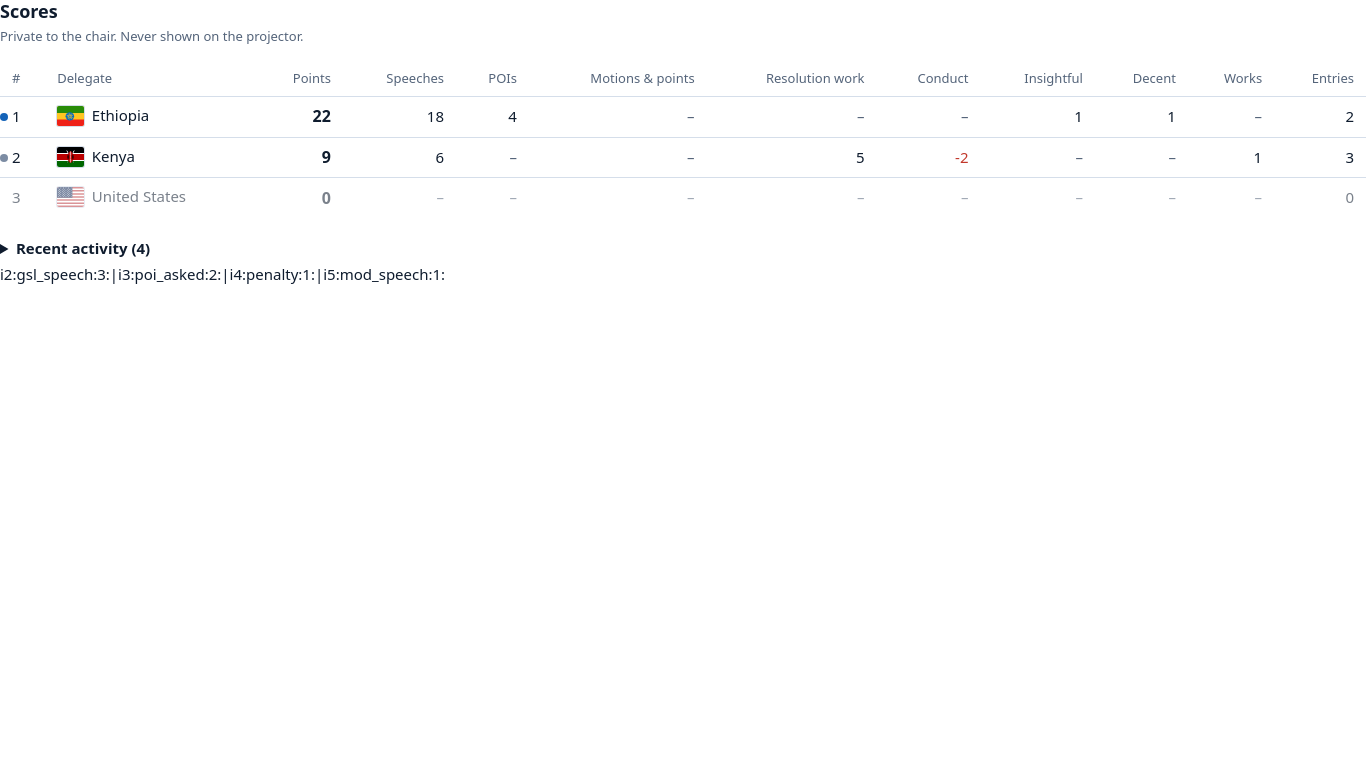
Scenario: LeaderboardPanel › opens the log modal and edits quality
Click the button with aria-label "Show log for Ethiopia" at (103, 117), box [57,105,149,129]
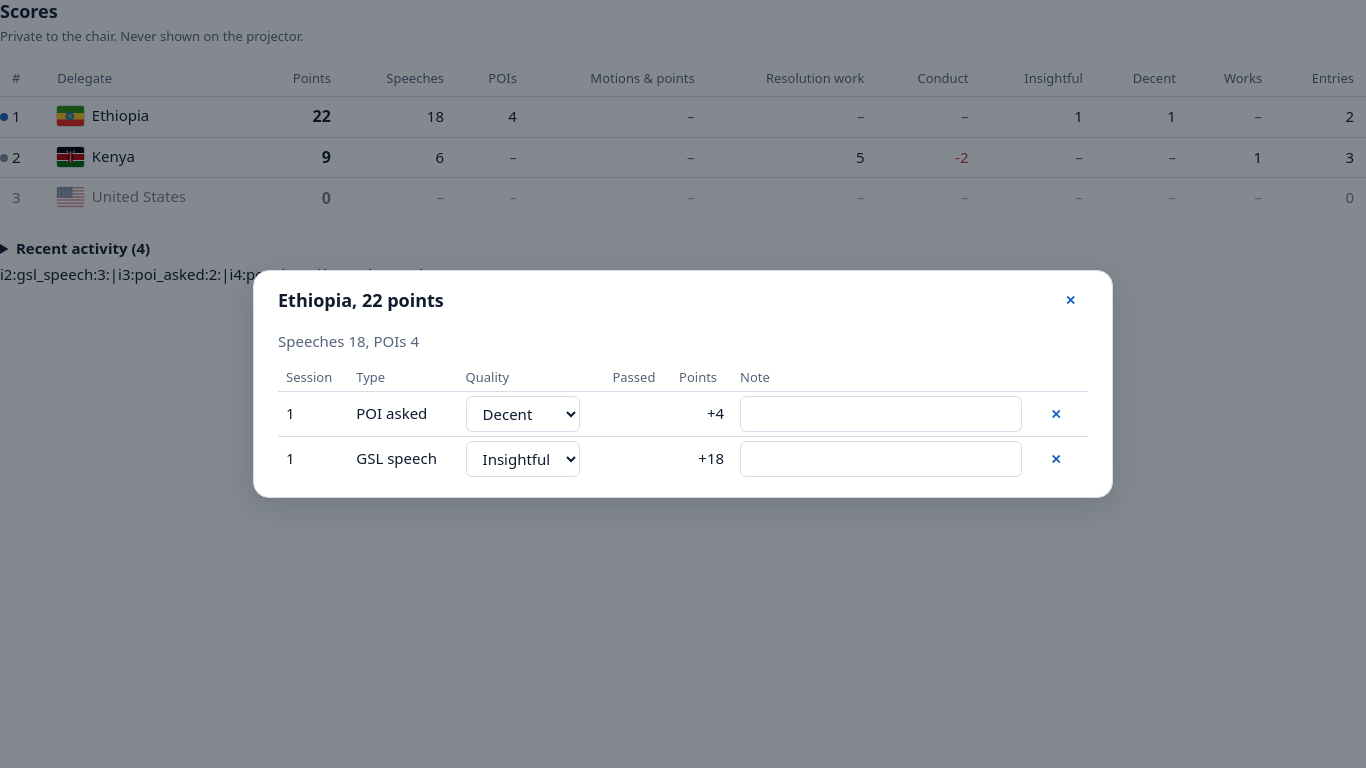
Select "Works" in the dropdown named "Quality for GSL speech" at (522, 459), box [466,441,580,477]
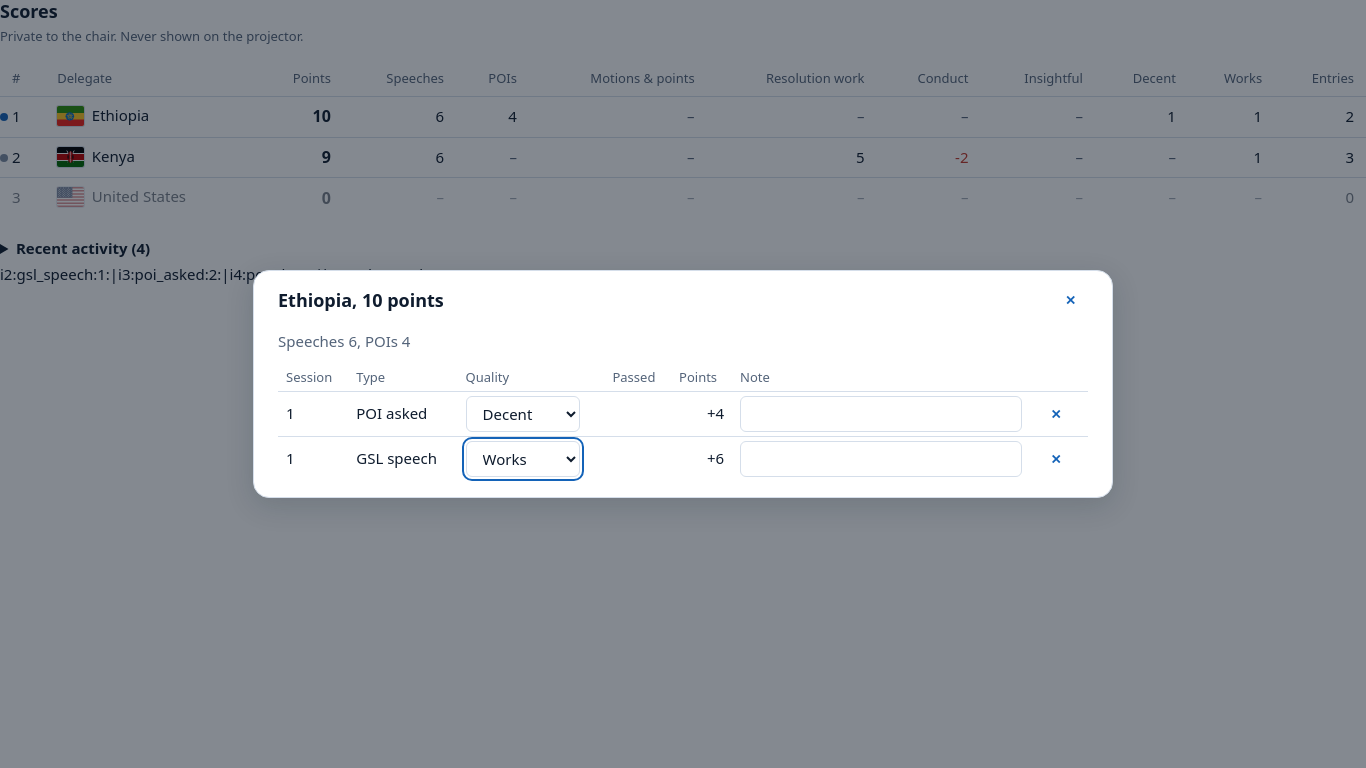
Expected: the text with test id "probe" shows ":gsl_speech:1:", [0,264,445,284]
Expected: the dialog "Ethiopia, 10 points" is shown, [253,270,1113,498]
